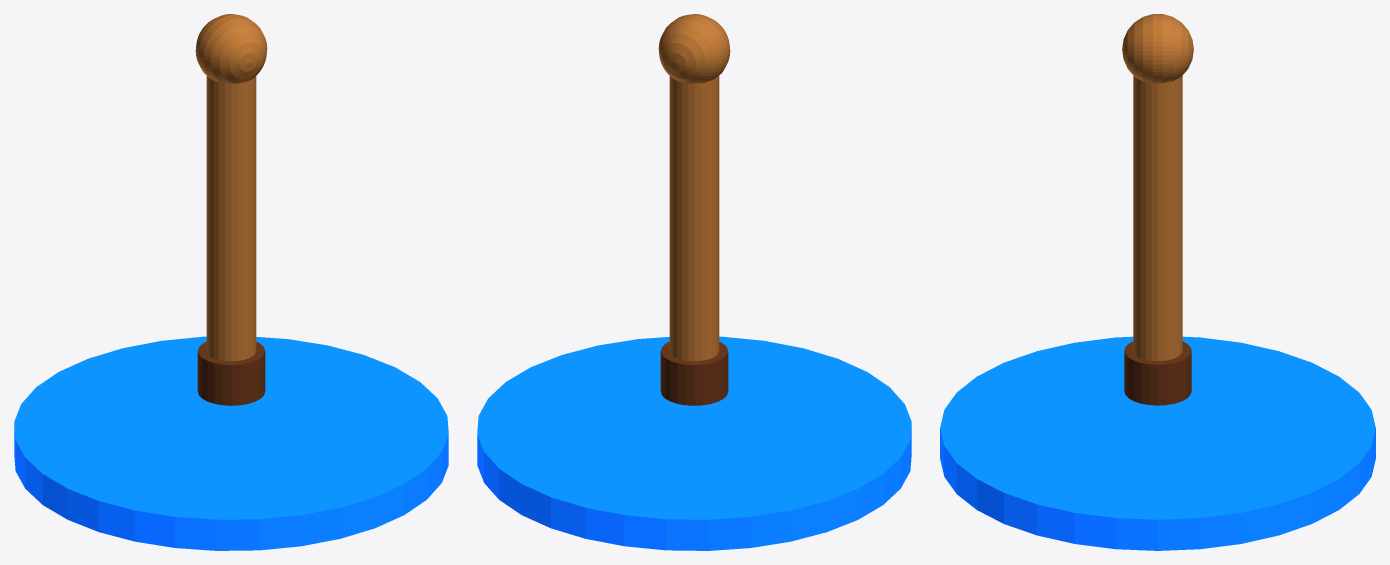
Rendered from sports_baseball_bat.dae.
3 renders of one model, left to right at view 1: azimuth 30°, elevation 25°; view 2: azimuth 150°, elevation 25°; view 3: azimuth 270°, elevation 25°, orthographic.
Visible parts, largest first — view 1: 04_13_Popular_Sports_Baseball_Bat_ROOT_base, 04_13_Popular_Sports_Baseball_Bat_part_01, 04_13_Popular_Sports_Baseball_Bat_part_02, 04_13_Popular_Sports_Baseball_Bat_part_03; view 2: 04_13_Popular_Sports_Baseball_Bat_ROOT_base, 04_13_Popular_Sports_Baseball_Bat_part_01, 04_13_Popular_Sports_Baseball_Bat_part_02, 04_13_Popular_Sports_Baseball_Bat_part_03; view 3: 04_13_Popular_Sports_Baseball_Bat_ROOT_base, 04_13_Popular_Sports_Baseball_Bat_part_01, 04_13_Popular_Sports_Baseball_Bat_part_02, 04_13_Popular_Sports_Baseball_Bat_part_03.
Part boxes in pixels (x1,y1,x2,y2): 04_13_Popular_Sports_Baseball_Bat_ROOT_base: [14, 336, 448, 550]; 04_13_Popular_Sports_Baseball_Bat_part_01: [206, 76, 256, 361]; 04_13_Popular_Sports_Baseball_Bat_part_02: [195, 14, 267, 83]; 04_13_Popular_Sports_Baseball_Bat_part_03: [197, 341, 265, 405]; 04_13_Popular_Sports_Baseball_Bat_ROOT_base: [477, 336, 911, 550]; 04_13_Popular_Sports_Baseball_Bat_part_01: [669, 76, 719, 361]; 04_13_Popular_Sports_Baseball_Bat_part_02: [658, 14, 730, 83]; 04_13_Popular_Sports_Baseball_Bat_part_03: [660, 341, 728, 405]; 04_13_Popular_Sports_Baseball_Bat_ROOT_base: [940, 336, 1375, 550]; 04_13_Popular_Sports_Baseball_Bat_part_01: [1133, 76, 1182, 360]; 04_13_Popular_Sports_Baseball_Bat_part_02: [1122, 14, 1193, 83]; 04_13_Popular_Sports_Baseball_Bat_part_03: [1124, 341, 1191, 405].
Bounding box in the file's own units: 0.76 × 0.85 × 0.76.
